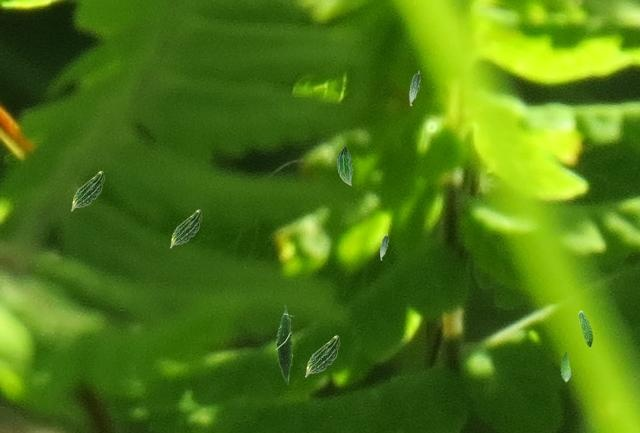ampalaya: (274, 304, 295, 385), (304, 335, 340, 377), (70, 170, 104, 211), (169, 209, 202, 248), (336, 144, 353, 186), (578, 310, 593, 349), (408, 70, 420, 106), (559, 351, 571, 383), (379, 233, 388, 260)
